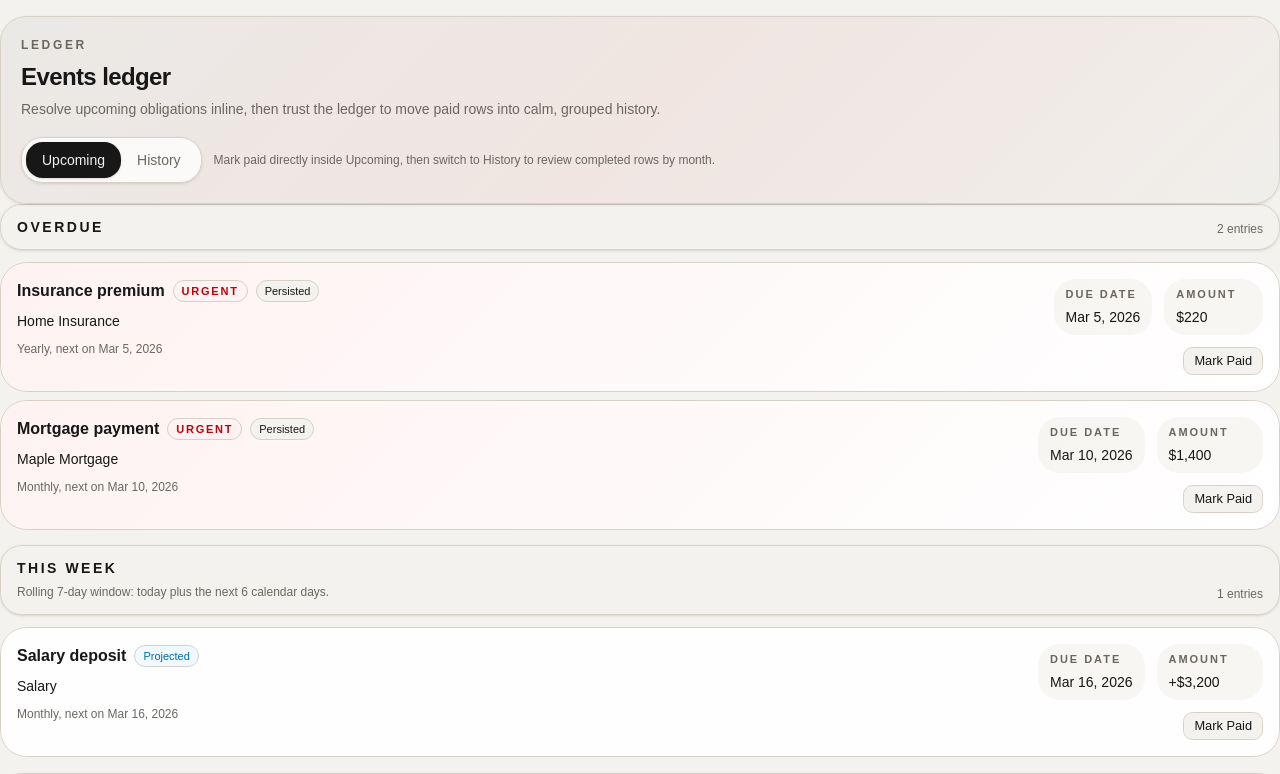
events ledger page › keeps failures inline on the same row and allows retry
Check: the text "Mortgage payment" is shown, box [17,420,159,437]
Click the button "Mark Paid" below "$1,400" at (1223, 498), box [1183,484,1263,512]
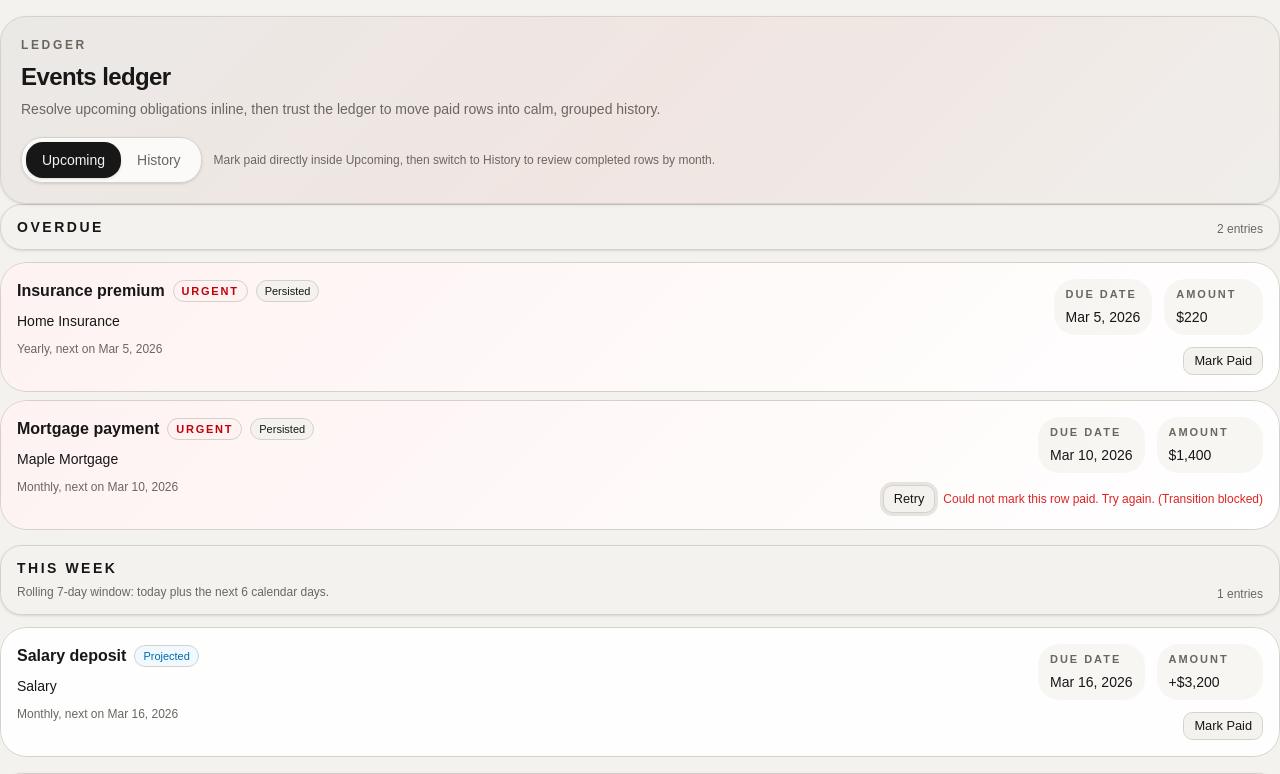
Check: the text "Mortgage payment" is shown, box [17,420,159,437]
Check: the text "Could not mark this row paid. Try again. (Transition blocked)" is shown, box [943,490,1263,506]
Click the button "Retry" at (909, 498), box [883,484,935,512]
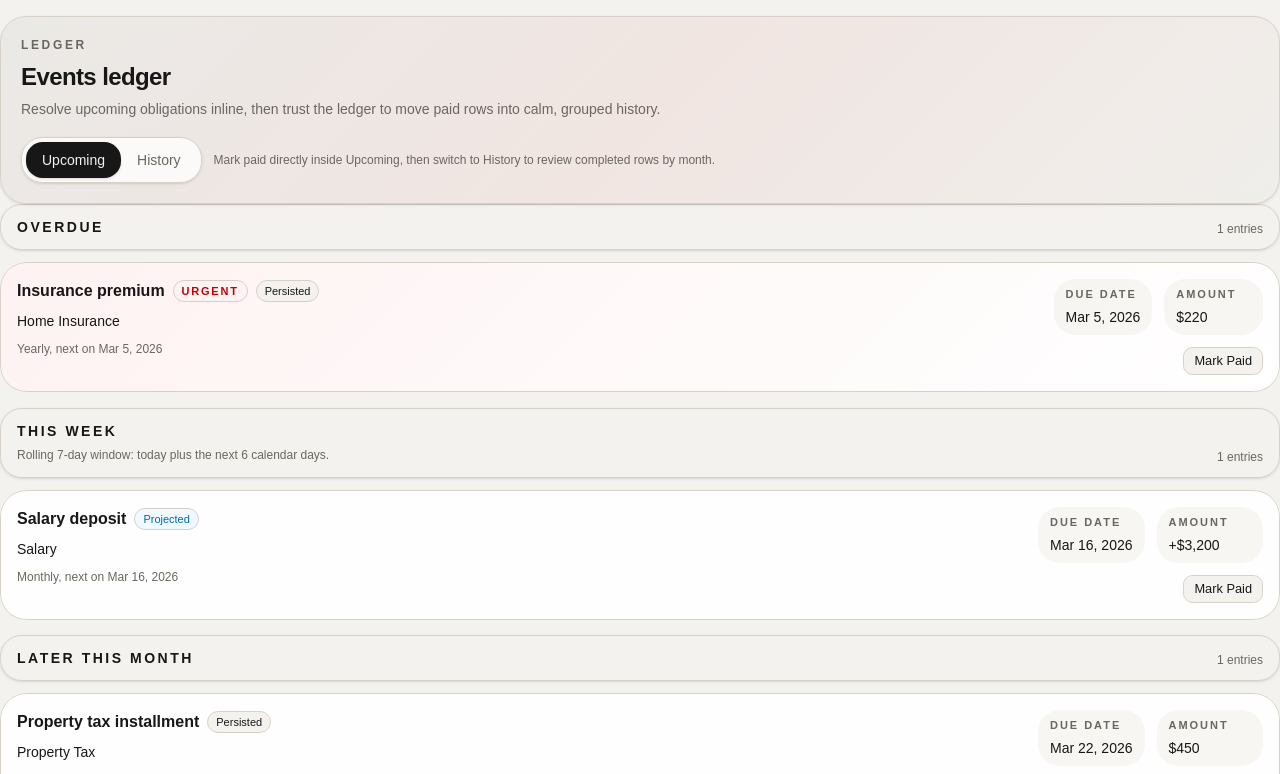
Check: the text "Could not mark this row paid. Try again. (Transition blocked)" is gone
Click the tab "History" at (159, 160), box [121,142,197,178]
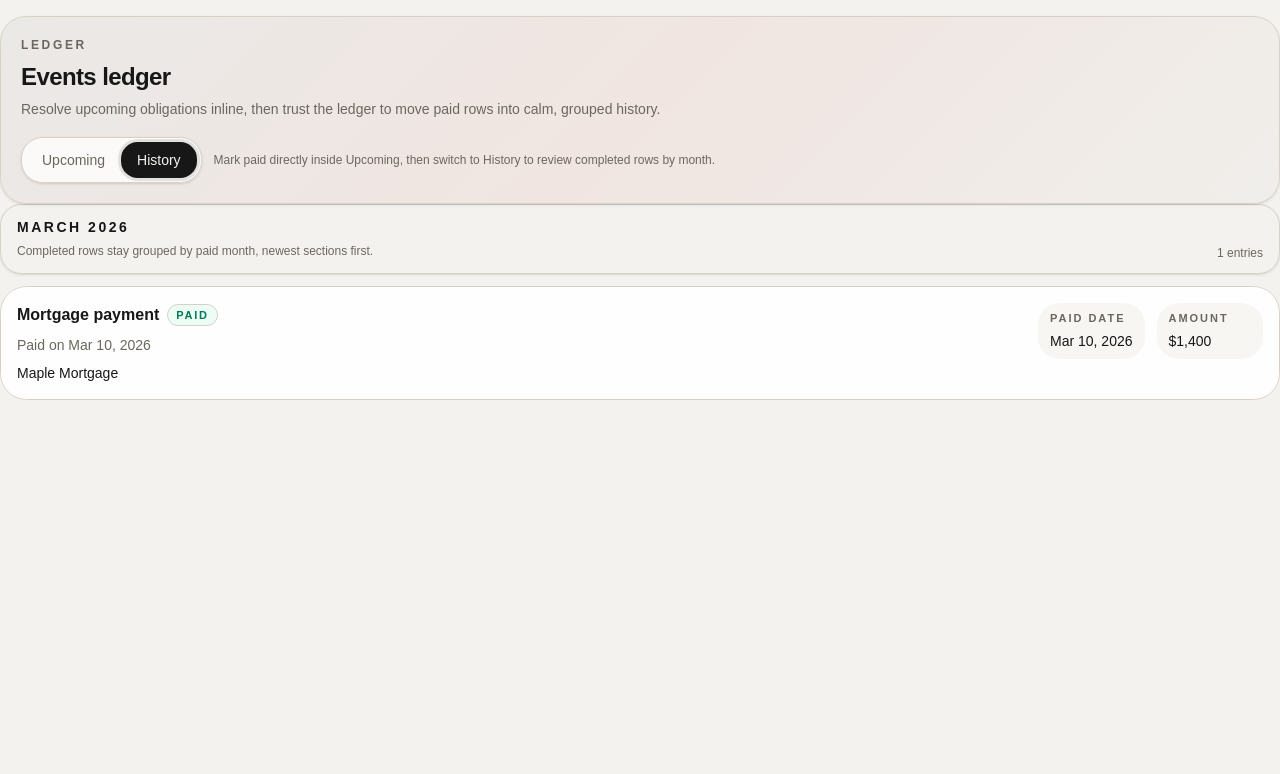
Check: the heading "Mortgage payment" is shown, box [17,303,159,327]
